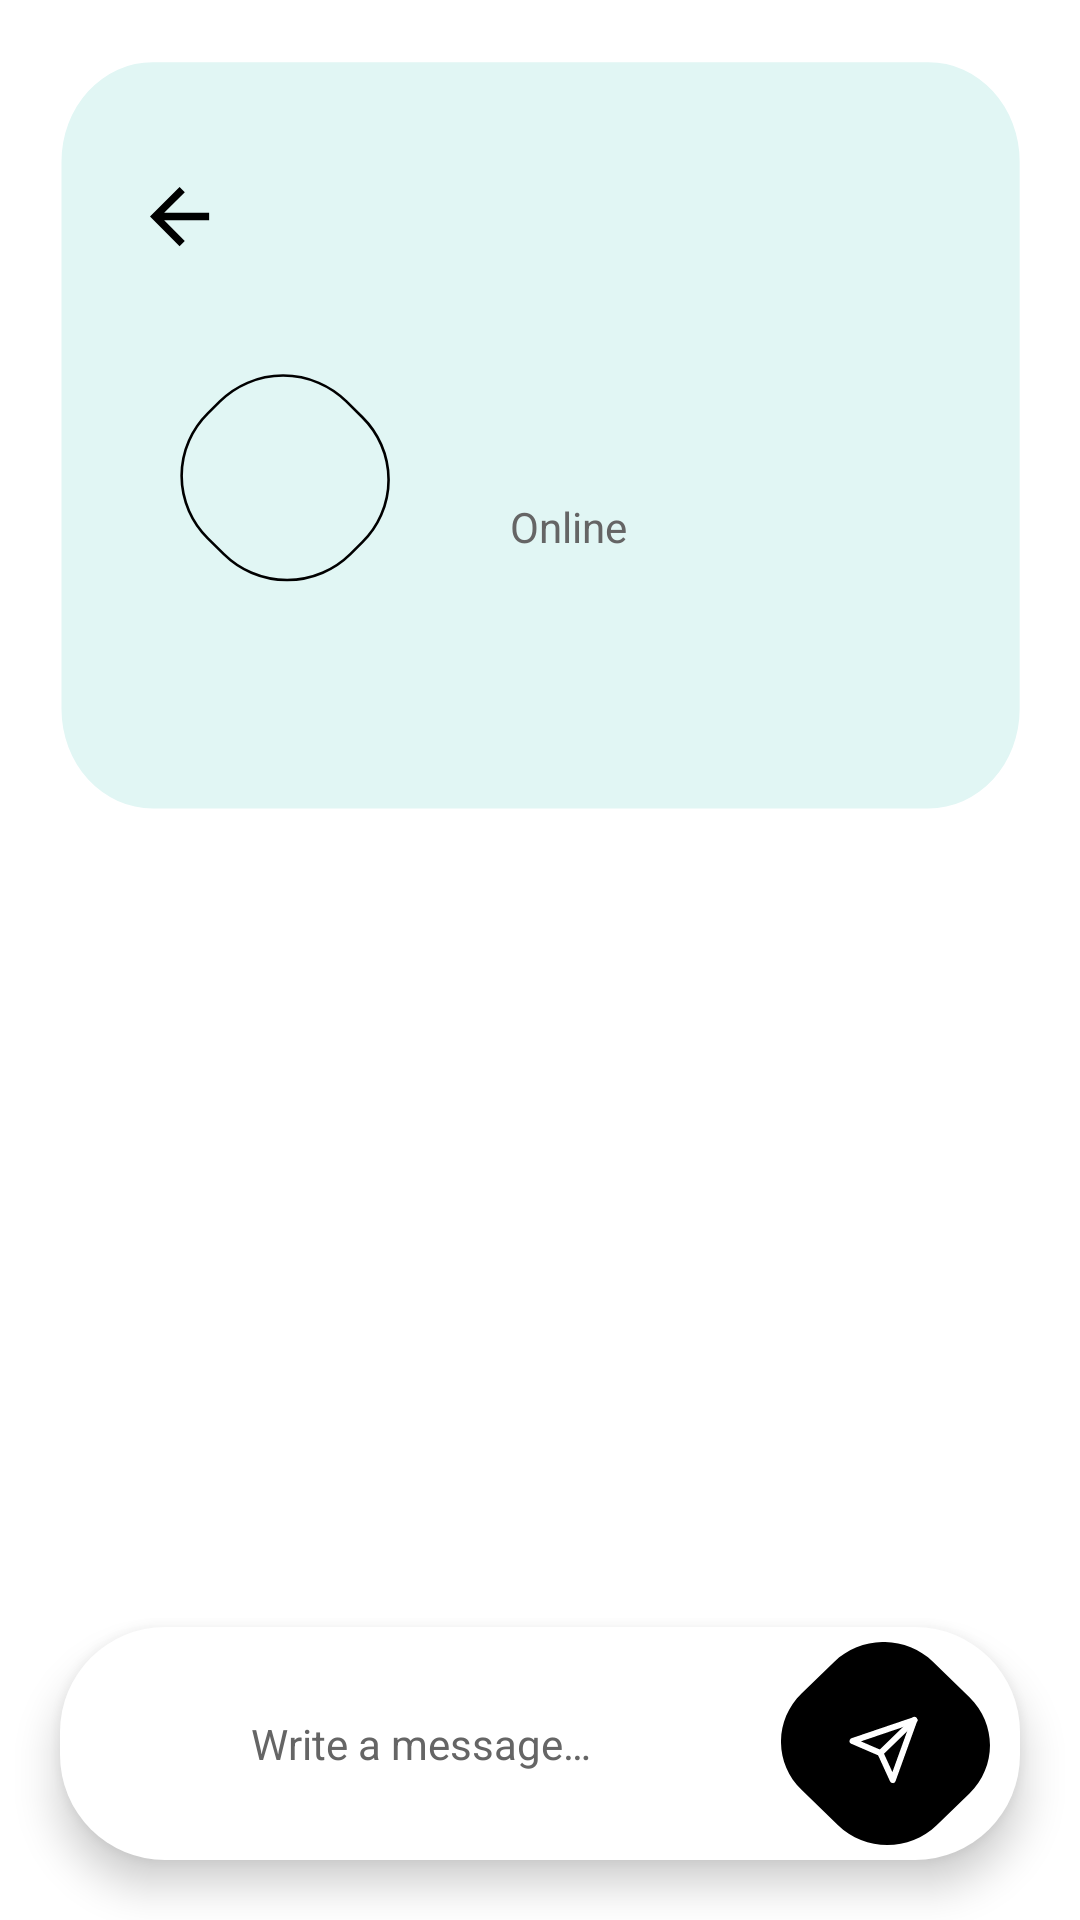

Point at icon controls on the screen. Image size 1080w x 1920h, points as (x=x, y=y).
back: (x=180, y=216)
message send: (x=885, y=1743)
